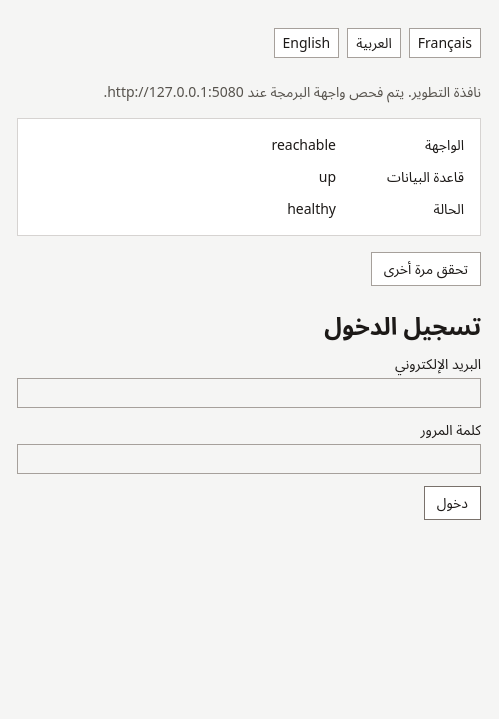
App › shows the stock panel in Arabic with a right-to-left document
Expected: the heading "تسجيل الدخول" is shown, [324, 309, 481, 342]
Type "owner@example.com" into the field labelled "البريد الإلكتروني" at (249, 393), box [17, 378, 481, 408]
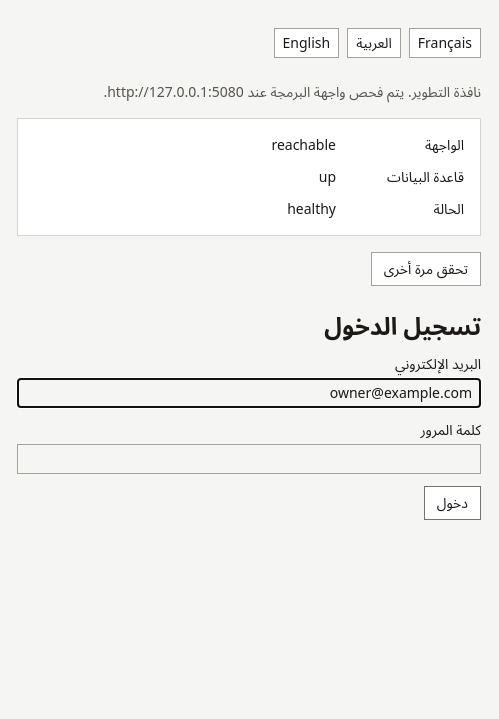
Type "correct-horse-battery" into the password field labelled "كلمة المرور" at (249, 459), box [17, 444, 481, 474]
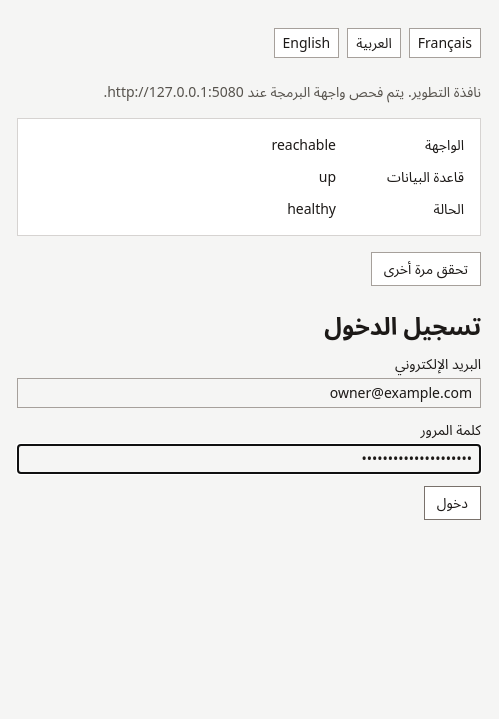
Click the button "دخول" at (452, 503), box [424, 486, 481, 520]
(page scrolled)
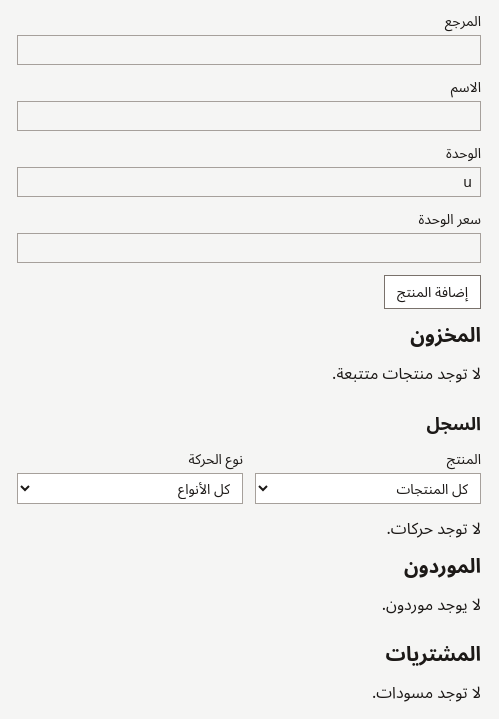
Expected: the heading "المخزون" is shown, [410, 321, 481, 348]
Expected: the heading "المشتريات" is shown, [386, 640, 481, 667]
